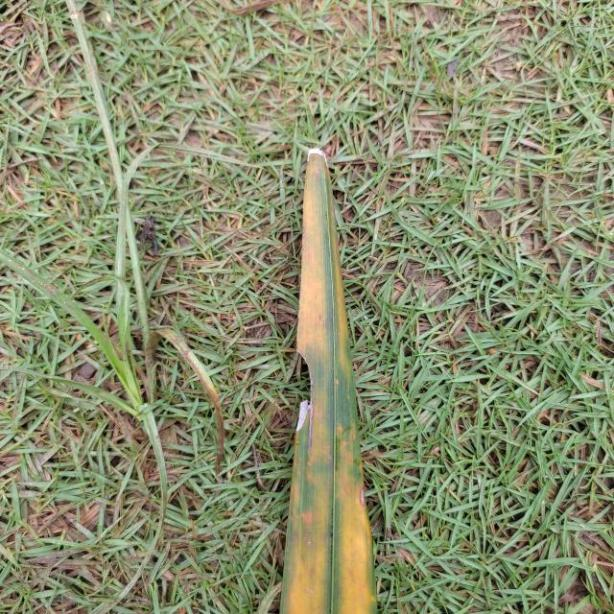Megnesium: (278, 134, 379, 614)
